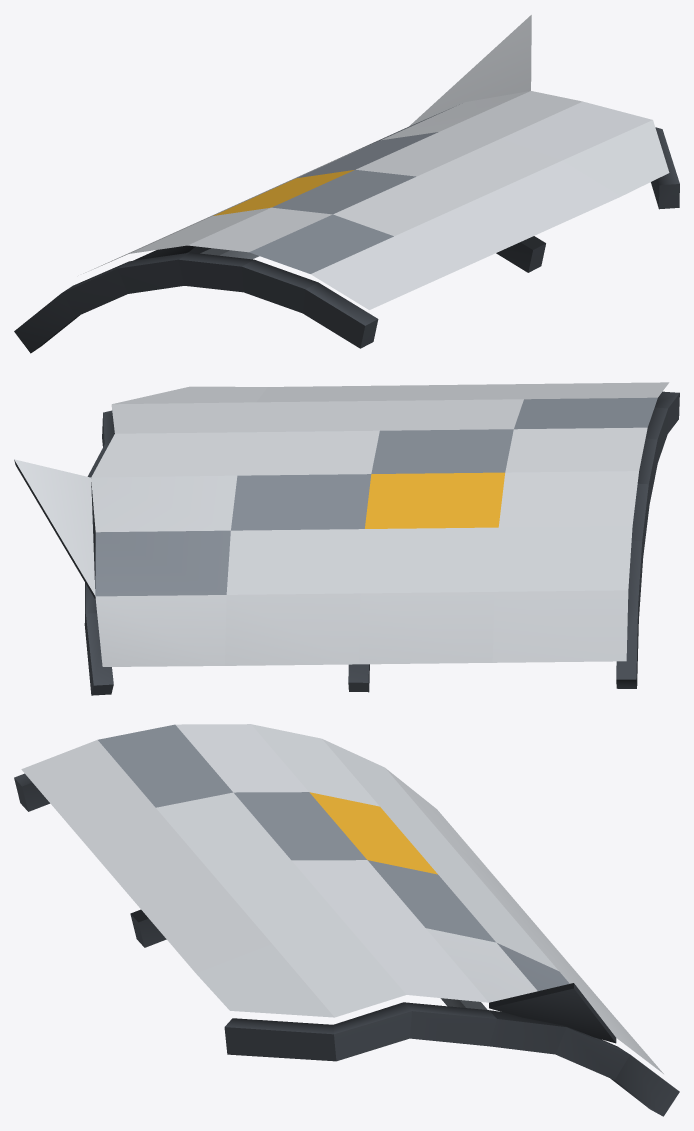
Rendered from debris_a.glb.
3 renders of one model, top to bottom at view 1: azimuth 30°, elevation 25°; view 2: azimuth 150°, elevation 25°; view 3: azimuth 270°, elevation 25°, orthographic. The views are drawn at different scales.
Visible parts, largest first — view 1: Base; view 2: Base; view 3: Base.
Part boxes in pixels (x1,y1,x2,y2): Base: [14, 15, 679, 353]; Base: [14, 382, 679, 695]; Base: [14, 724, 679, 1116].
Bounding box in the file's own units: 3.97 × 1.23 × 3.55.
